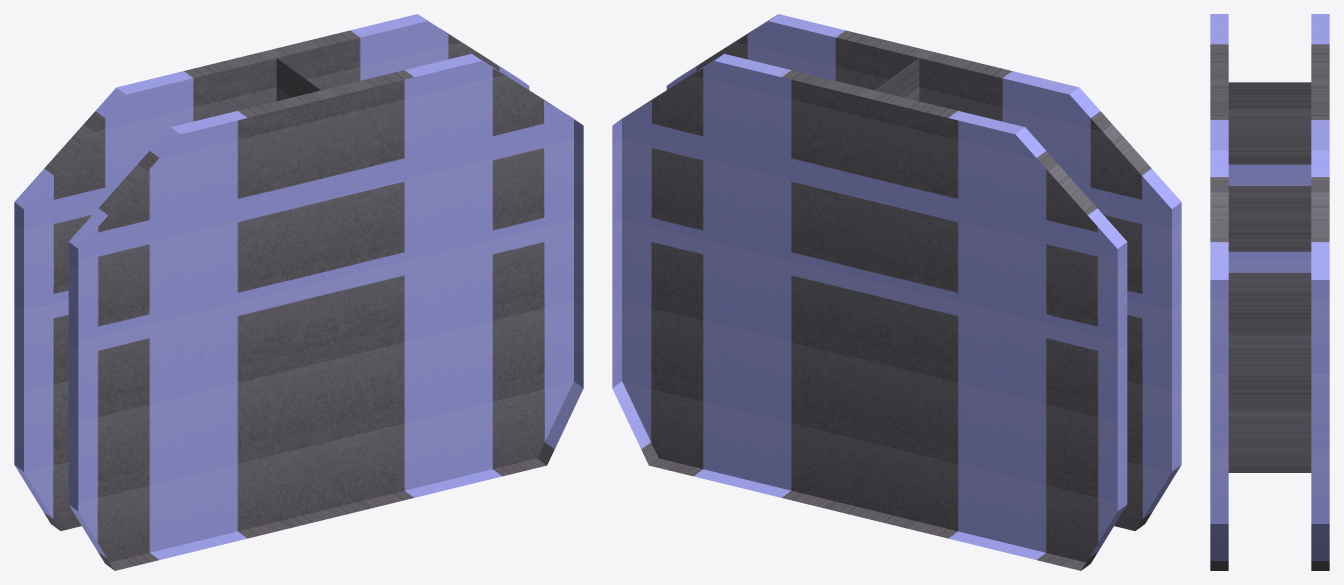
Rendered from door.fbx.
The picture shows the model from 3 angles, left to right: view 1: azimuth 30°, elevation 25°; view 2: azimuth 150°, elevation 25°; view 3: azimuth 270°, elevation 25°; orthographic projection. The views are drawn at different scales.
Parts seen in each view (by area): view 1: door-target; view 2: door-target; view 3: door-target.
Part boxes in pixels (x1=…): door-target: x1=14, y1=14, x2=583, y2=570; door-target: x1=612, y1=14, x2=1181, y2=570; door-target: x1=1210, y1=14, x2=1329, y2=570.
Bounding box in the file's own units: 3.92 × 0.8613 × 3.12.
